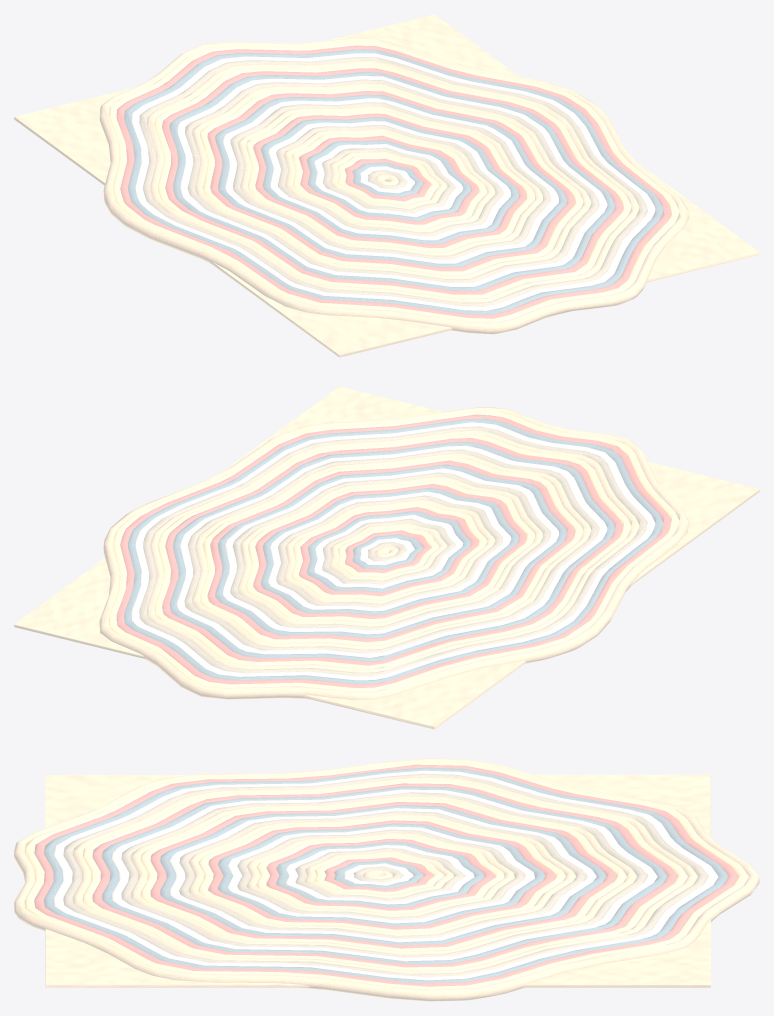
File: ref01_03.glb
3 renders of one model, top to bottom at view 1: azimuth 30°, elevation 25°; view 2: azimuth 150°, elevation 25°; view 3: azimuth 270°, elevation 25°, orthographic. The views are drawn at different scales.
Parts seen in each view (by area): view 1: ref01_03; view 2: ref01_03; view 3: ref01_03.
Boxes of the visible parts, x1,y1,x2,y2 form: ref01_03: (14, 14, 759, 357); ref01_03: (14, 386, 759, 729); ref01_03: (14, 758, 759, 1001).
Bounding box in the file's own units: 1.6 × 0.0361 × 2.13.
Materials: 38 (38 with a texture image).
